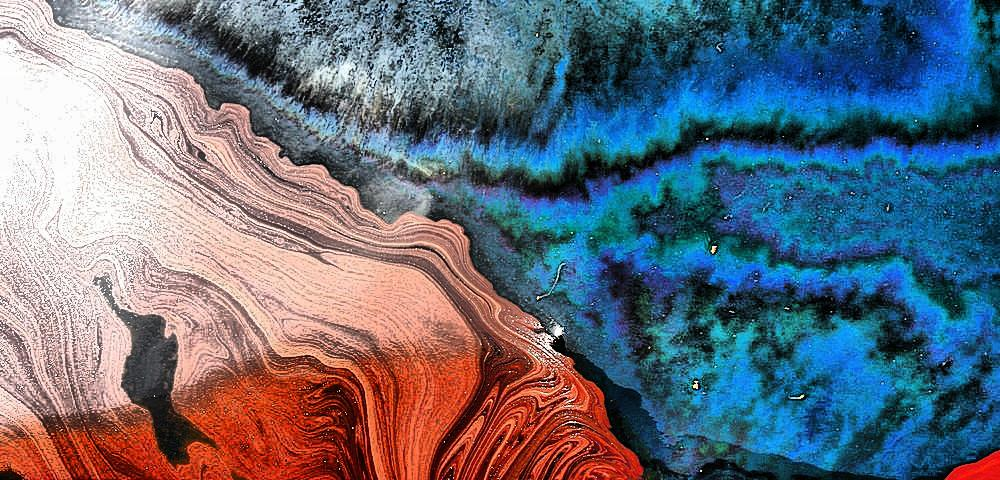sheen: (428, 148, 1000, 292)
truecolor: (0, 1, 642, 480)
